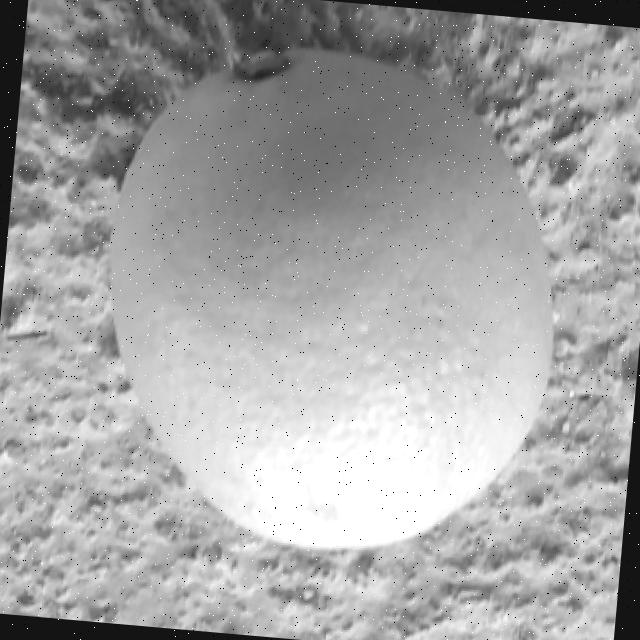Ripe: (80, 24, 582, 574)
